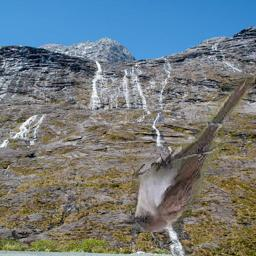Cuckoo: (125, 76, 256, 233)
